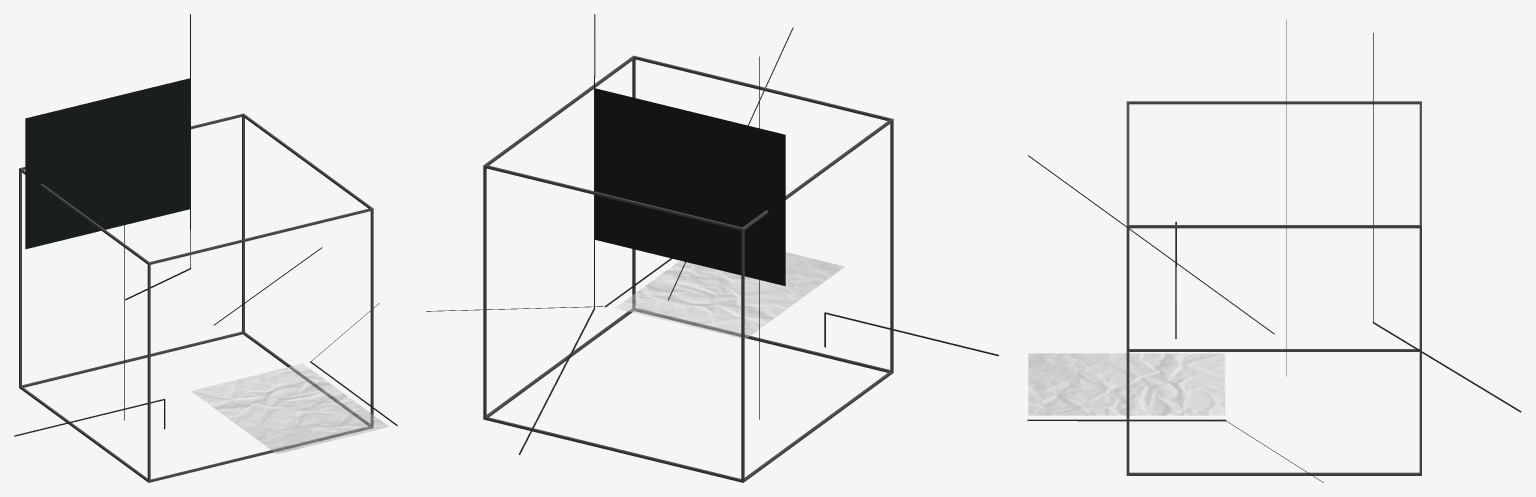
Rendered from dibujo_en_un_prisma_de_aire.glb.
3 views of the same model, side by side, from view 1: azimuth 30°, elevation 25°; view 2: azimuth 150°, elevation 25°; view 3: azimuth 270°, elevation 25° (orthographic). The views are drawn at different scales.
Parts seen in each view (by area): view 1: nube_de_puntos, papel_vegetal, prisma_de_aire, lineas_grueso, lineas_intermedio; view 2: nube_de_puntos, prisma_de_aire, papel_vegetal, lineas_grueso; view 3: papel_vegetal, prisma_de_aire, lineas_grueso, lineas_intermedio.
Boxes of the visible parts, box(x1,y1,x2,y2) form: nube_de_puntos: box(25, 78, 190, 249); papel_vegetal: box(191, 363, 388, 453); prisma_de_aire: box(19, 113, 373, 482); lineas_grueso: box(14, 268, 397, 436); lineas_intermedio: box(190, 14, 322, 325); nube_de_puntos: box(595, 88, 785, 286); prisma_de_aire: box(483, 55, 893, 482); papel_vegetal: box(616, 252, 844, 339); lineas_grueso: box(519, 258, 998, 454); papel_vegetal: box(1028, 353, 1225, 415); prisma_de_aire: box(1126, 101, 1421, 475); lineas_grueso: box(1027, 221, 1521, 421); lineas_intermedio: box(1028, 32, 1373, 334).
Size of the model in its own units: 5.74 by 4.5 by 5.02.
4 materials, 2 textured.
